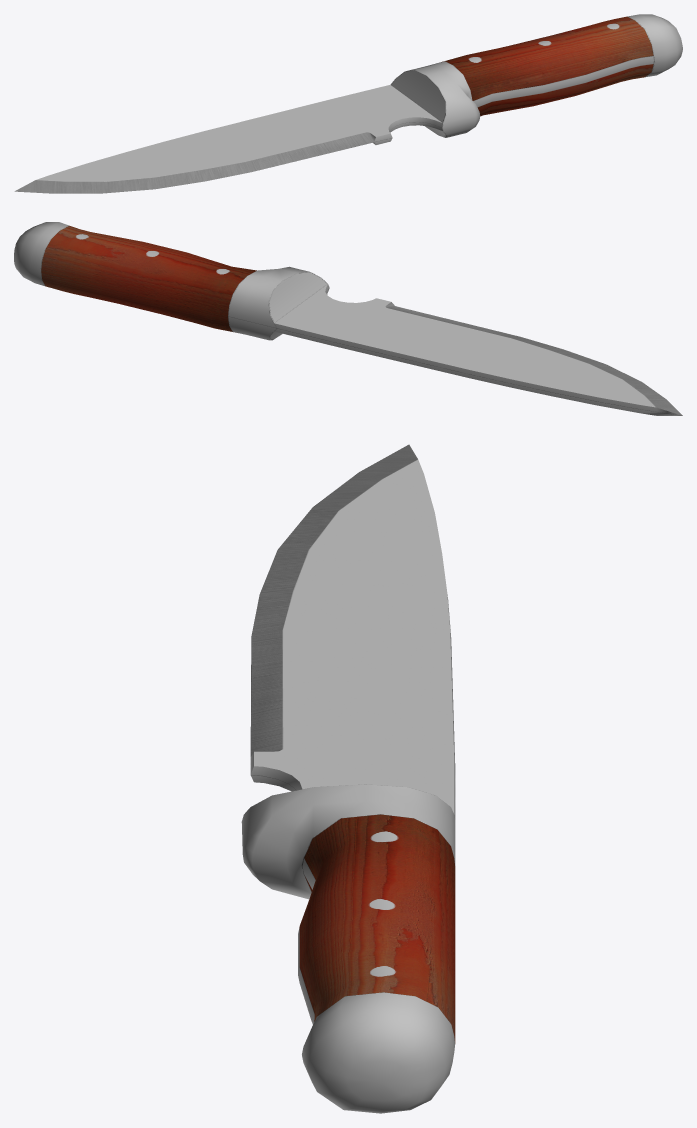
Rendered from Knife_obj.obj.
3 views of the same model, one above another, from view 1: azimuth 30°, elevation 25°; view 2: azimuth 150°, elevation 25°; view 3: azimuth 270°, elevation 25° (orthographic). The views are drawn at different scales.
Visible parts, largest first — view 1: Knife; view 2: Knife; view 3: Knife.
Part boxes in pixels (x1=…): Knife: x1=14, y1=14, x2=682, y2=193; Knife: x1=14, y1=222, x2=682, y2=415; Knife: x1=241, y1=444, x2=455, y2=1113.
Bounding box in the file's own units: 13.29 × 1.01 × 1.88.
